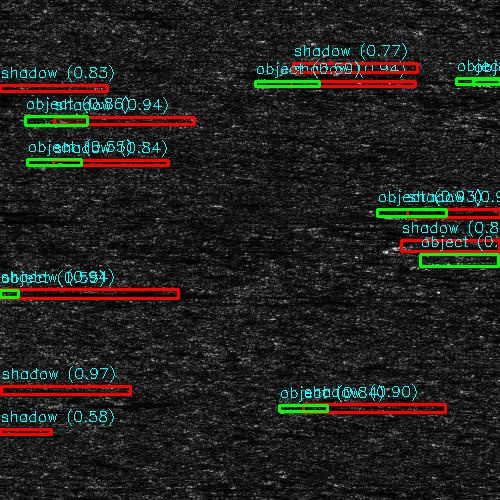rock: (266, 62, 339, 71), (379, 209, 442, 216), (276, 405, 339, 412), (439, 259, 500, 264), (32, 401, 85, 406), (0, 403, 18, 416), (33, 161, 74, 166), (276, 81, 307, 86), (293, 225, 334, 228), (49, 119, 90, 122), (384, 243, 405, 248), (488, 79, 500, 84), (493, 112, 500, 115)
shadow: (0, 403, 98, 416), (0, 290, 174, 297), (0, 84, 125, 93), (303, 62, 425, 71), (308, 405, 433, 412), (0, 387, 123, 394), (411, 209, 500, 216), (292, 81, 414, 86), (54, 161, 163, 166), (395, 243, 500, 248), (59, 401, 133, 406), (70, 119, 180, 122), (0, 94, 27, 105), (314, 225, 397, 228), (0, 429, 46, 434), (0, 216, 38, 221), (0, 206, 21, 213), (471, 259, 500, 264)
